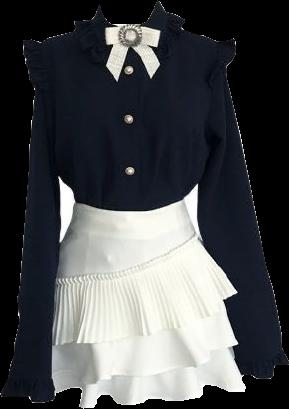Bodice: (46, 1, 222, 212)
Hemline: (51, 291, 239, 348), (50, 342, 240, 385), (55, 381, 249, 408)
Neckline: (97, 1, 160, 28)
Skirt: (51, 199, 245, 407)
Sleeve: (196, 38, 287, 379), (1, 40, 60, 401)
Sleeveline: (204, 41, 225, 129), (42, 38, 50, 135)
Waistline: (54, 233, 197, 282), (73, 196, 185, 214)
